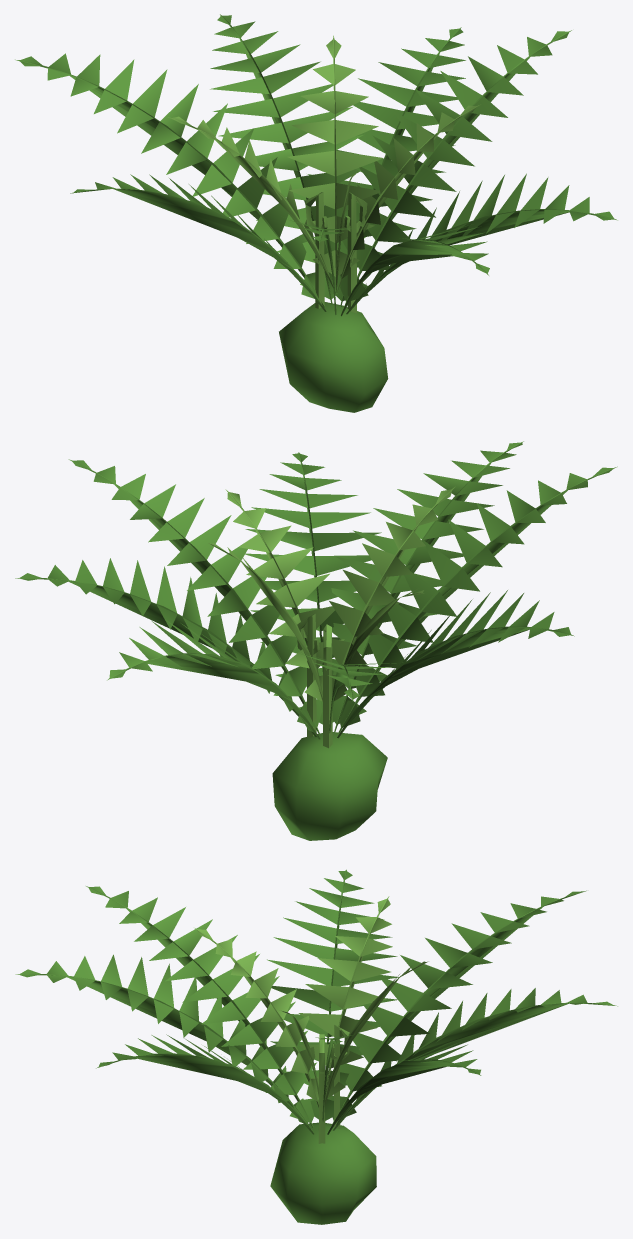
The model's file is fern.glb.
The picture shows the model from 3 angles, top to bottom: view 1: azimuth 30°, elevation 25°; view 2: azimuth 150°, elevation 25°; view 3: azimuth 270°, elevation 25°; orthographic projection. The views are drawn at different scales.
Visible parts, largest first — view 1: fern; view 2: fern; view 3: fern.
Part boxes in pixels (box(x1,y1,x2,y2)): fern: box(15, 14, 617, 412); fern: box(15, 441, 617, 840); fern: box(15, 869, 617, 1224).
Size of the model in its own units: 0.793 by 0.478 by 0.932.
